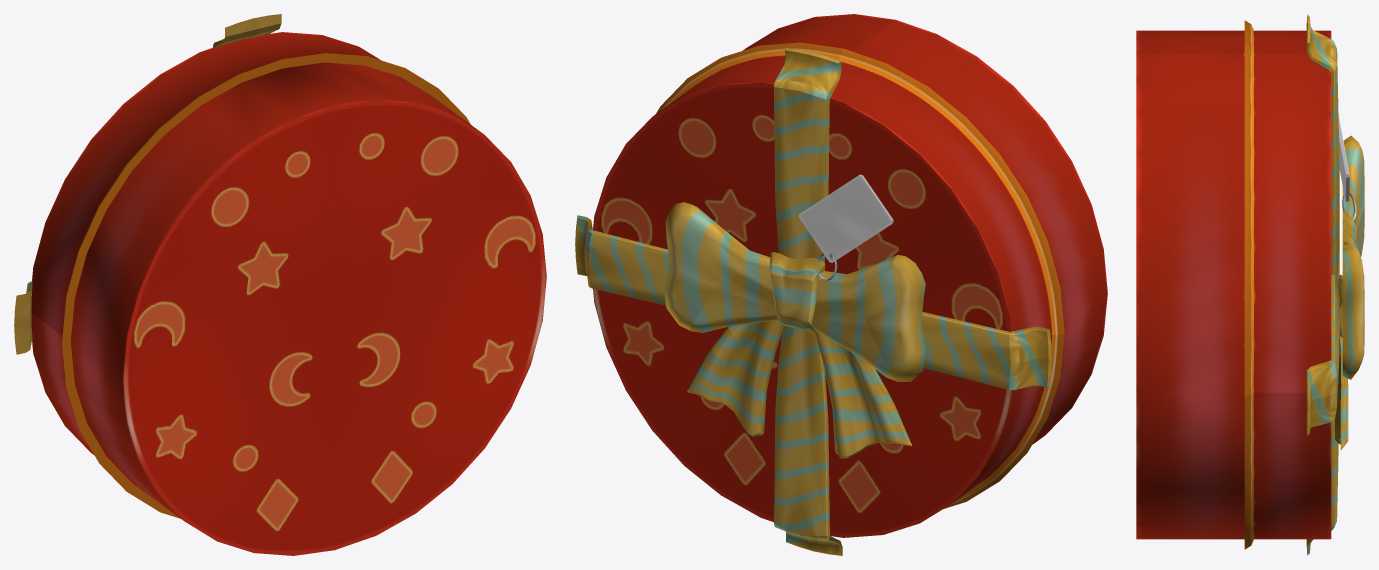
File: JewelryBox02_piece.FBX
3 views of the same model, side by side, from view 1: azimuth 30°, elevation 25°; view 2: azimuth 150°, elevation 25°; view 3: azimuth 270°, elevation 25° (orthographic). The views are drawn at different scales.
Visible parts, largest first — view 1: polySurface504, polySurface505, polySurface518, polySurface517, polySurface520, polySurface514, polySurface515; view 2: polySurface518, polySurface528, polySurface520, polySurface517, polySurface504, polySurface519, polySurface516, polySurface514, polySurface515, polySurface513, polySurface529, polySurface505; view 3: polySurface505, polySurface520, polySurface519, polySurface528, polySurface514, polySurface504, polySurface513, polySurface518, polySurface516, polySurface529.
Boxes of the visible parts, box(x1,y1,x2,y2) form: polySurface504: box(71, 68, 334, 555); polySurface505: box(283, 62, 546, 549); polySurface518: box(31, 39, 282, 343); polySurface517: box(31, 313, 180, 518); polySurface520: box(244, 32, 470, 124); polySurface514: box(213, 14, 281, 47); polySurface515: box(14, 281, 32, 354); polySurface518: box(824, 49, 1064, 334); polySurface528: box(664, 202, 926, 458); polySurface520: box(593, 42, 843, 257); polySurface517: box(825, 333, 1064, 537); polySurface504: box(853, 20, 1107, 444); polySurface519: box(593, 288, 782, 522); polySurface516: box(774, 325, 842, 555); polySurface514: box(774, 47, 841, 262); polySurface515: box(921, 312, 1051, 390); polySurface513: box(575, 215, 669, 305); polySurface529: box(798, 174, 893, 280); polySurface505: box(743, 14, 895, 51); polySurface505: box(1136, 54, 1244, 539); polySurface520: box(1244, 45, 1331, 396); polySurface519: box(1244, 392, 1331, 549); polySurface528: box(1334, 135, 1364, 449); polySurface514: box(1306, 14, 1339, 283); polySurface504: box(1136, 30, 1244, 54); polySurface513: box(1306, 274, 1339, 435); polySurface518: box(1244, 20, 1331, 54); polySurface516: box(1306, 420, 1338, 555); polySurface529: box(1338, 115, 1356, 219).
Bounding box in the file's own units: 247 × 247 × 98.33.
